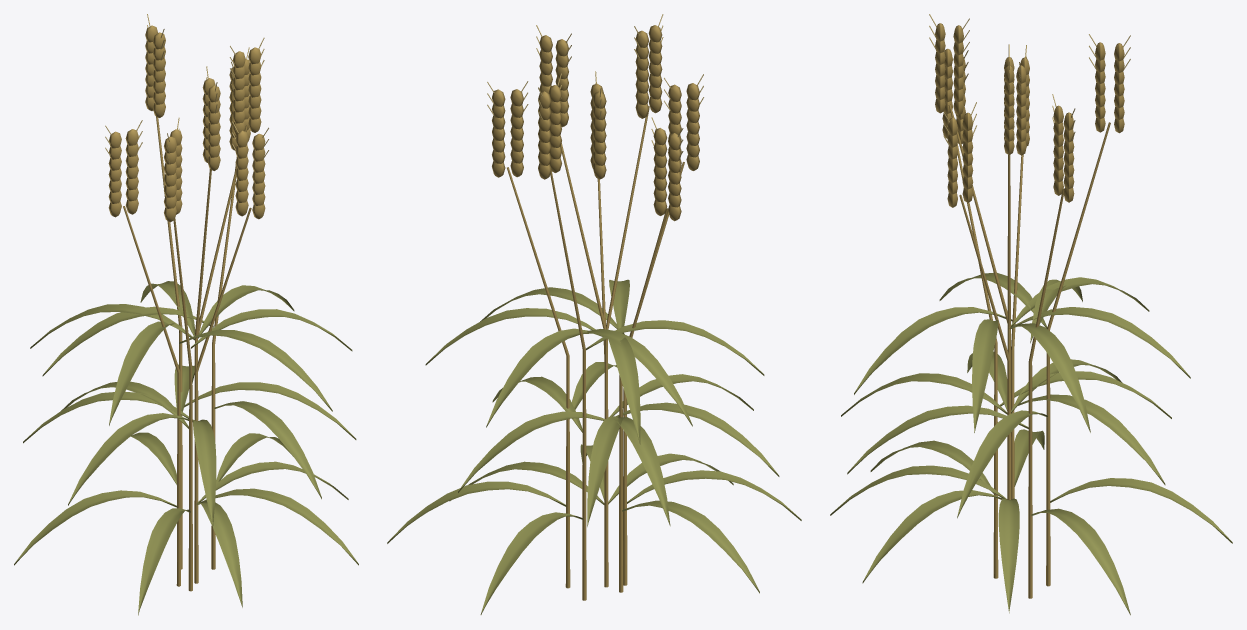
Rendered from trigo.glb.
3 views of the same model, side by side, from view 1: azimuth 30°, elevation 25°; view 2: azimuth 150°, elevation 25°; view 3: azimuth 270°, elevation 25° (orthographic). The views are drawn at different scales.
Parts seen in each view (by area): view 1: trigo; view 2: trigo; view 3: trigo.
Part boxes in pixels (x1,y1,x2,y2): trigo: (14,14,358,615); trigo: (387,14,801,614); trigo: (830,14,1232,615).
Size of the model in its own units: 0.6962 by 1.1 by 0.7177.
